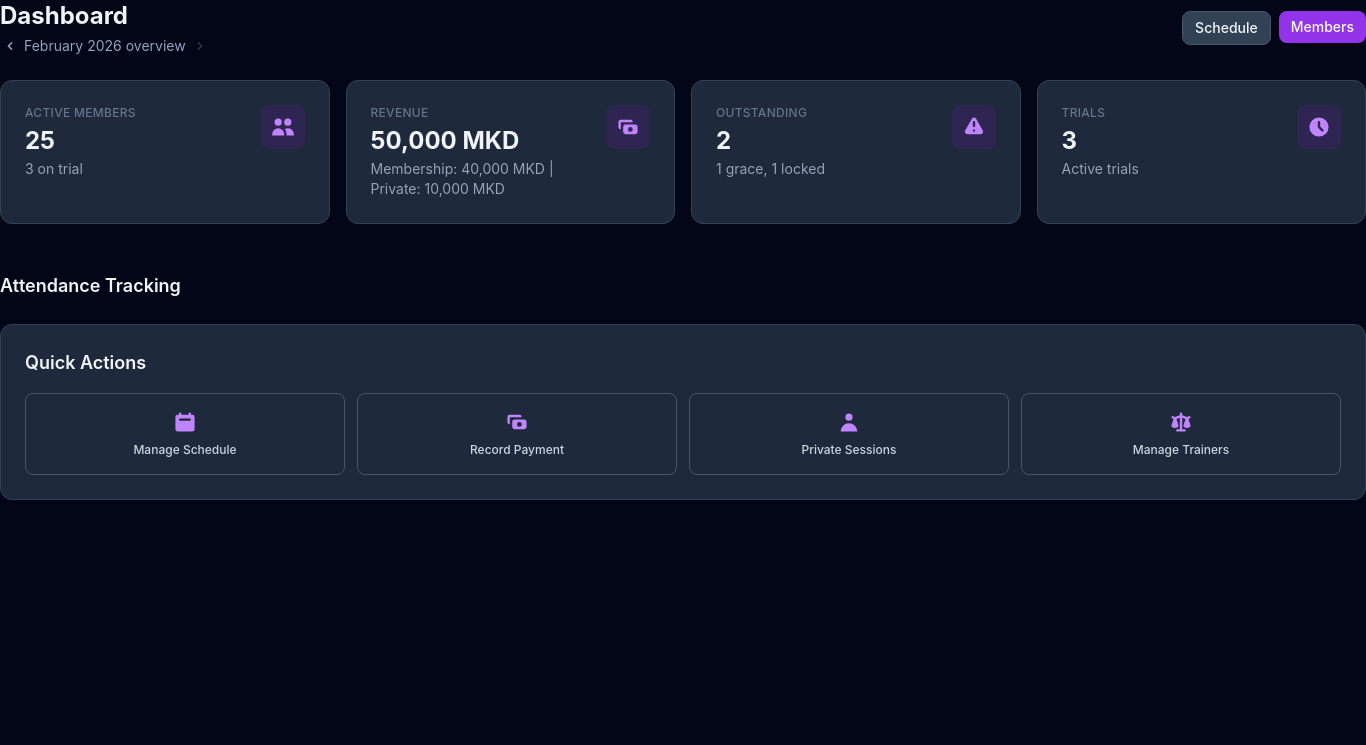
DashboardClient month navigator › navigates to previous month on left arrow click
Click the button named "Previous month". click: (10, 46)
box: [0,36,20,56]
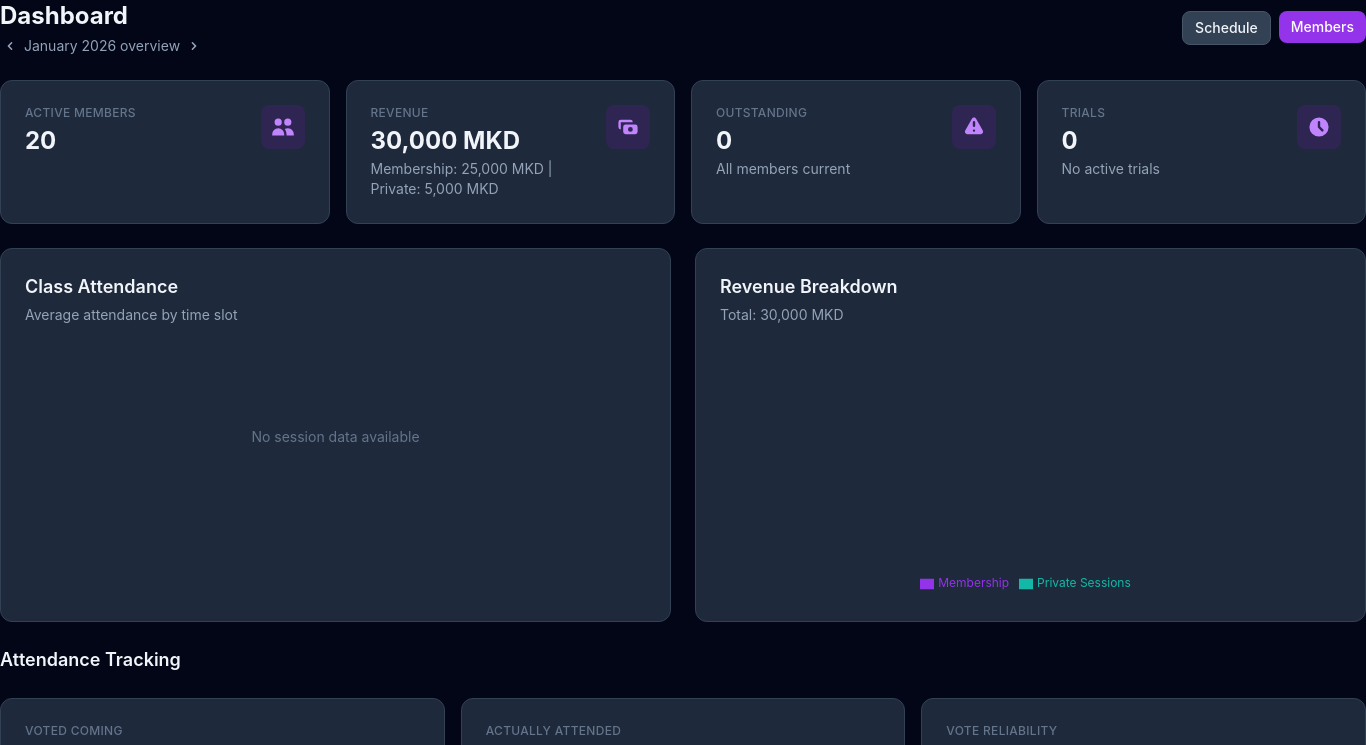
expect the text "January 2026 overview" is shown: met, box [24,36,180,56]
